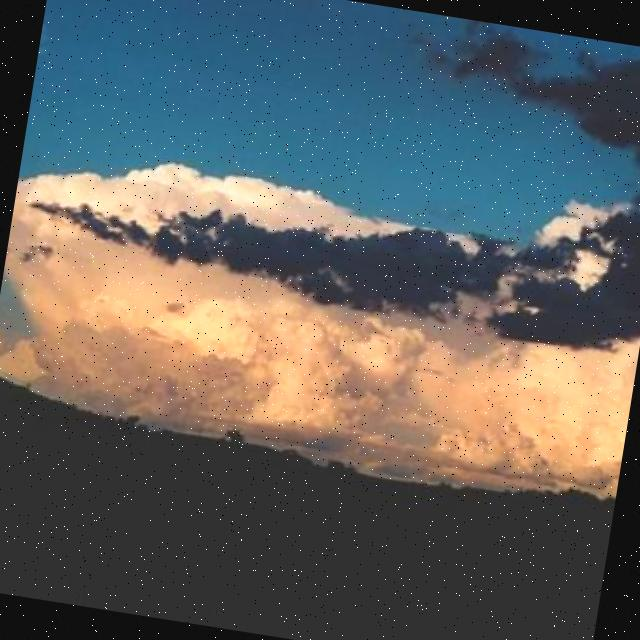Cb: (1, 116, 640, 470)
